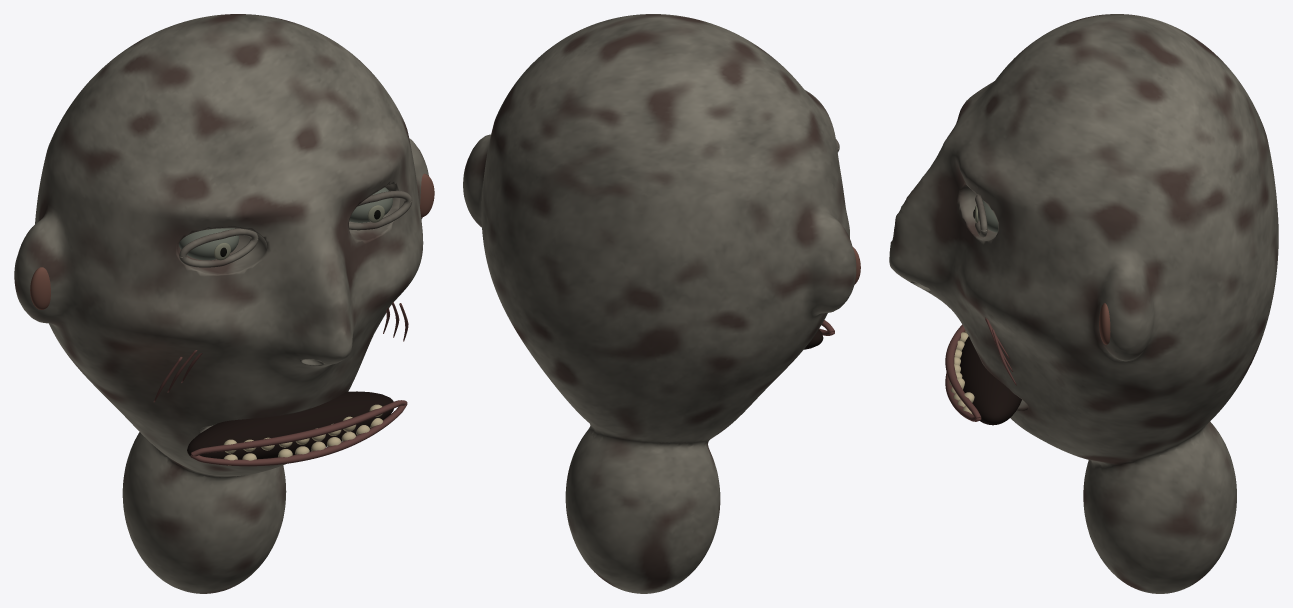
File: intro-head.glb
3 renders of one model, left to right at view 1: azimuth 30°, elevation 25°; view 2: azimuth 150°, elevation 25°; view 3: azimuth 270°, elevation 25°, orthographic. The views are drawn at different scales.
Parts seen in each view (by area): view 1: Head-skin, Mouth interior, Upper lip, Lower lip, Sunken eye, Ear concha, Integrated eyelid.001, Integrated eyelid, Sunken eye.001; view 2: Head-skin; view 3: Head-skin, Mouth interior, Upper lip.
Boxes of the visible parts, <box> form: Head-skin: <box>14,14,428,593</box>; Mouth interior: <box>187,391,393,459</box>; Upper lip: <box>191,400,407,456</box>; Lower lip: <box>190,404,407,466</box>; Sunken eye: <box>179,228,239,260</box>; Ear concha: <box>30,267,50,309</box>; Integrated eyelid.001: <box>179,238,258,267</box>; Integrated eyelid: <box>179,228,258,257</box>; Sunken eye.001: <box>349,187,392,222</box>; Head-skin: <box>463,14,856,593</box>; Head-skin: <box>889,14,1278,593</box>; Mouth interior: <box>960,336,1021,425</box>; Upper lip: <box>945,324,981,418</box>.
Bounding box in the file's own units: 0.2535 × 0.3411 × 0.2166.
